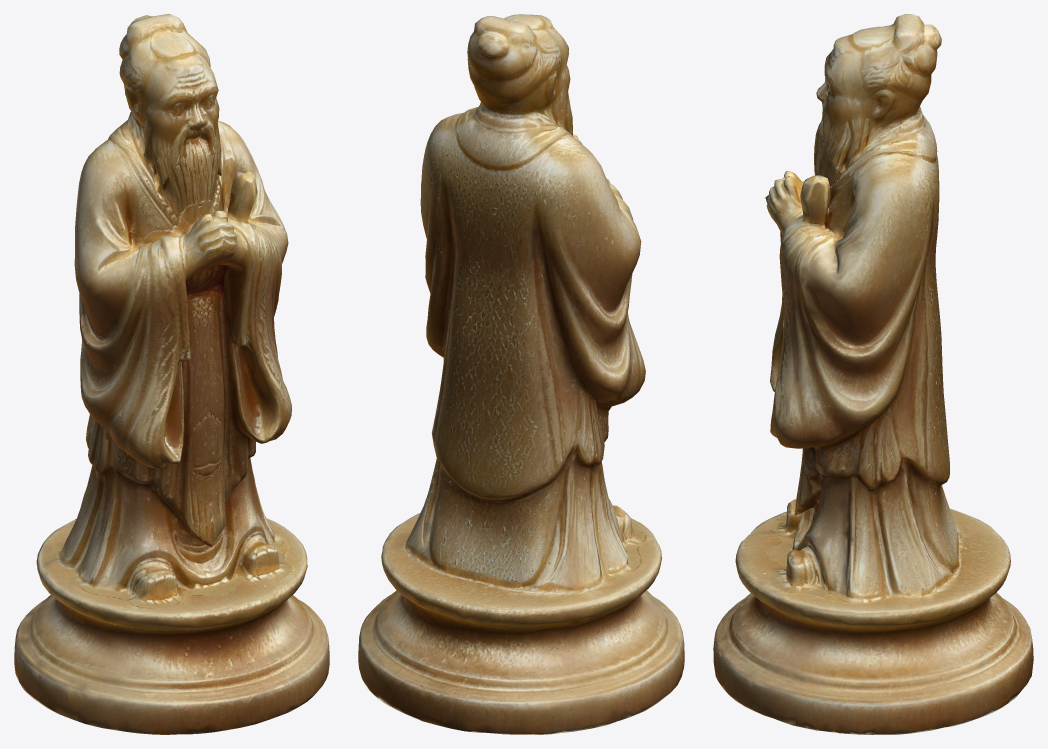
Rendered from draw_statue4_gold.glb.
3 views of the same model, side by side, from view 1: azimuth 30°, elevation 25°; view 2: azimuth 150°, elevation 25°; view 3: azimuth 270°, elevation 25° (orthographic). The views are drawn at different scales.
Parts seen in each view (by area): view 1: texture_mapping; view 2: texture_mapping; view 3: texture_mapping.
Part boxes in pixels (x1,y1,x2,y2): texture_mapping: (14, 14, 329, 734); texture_mapping: (358, 14, 684, 734); texture_mapping: (713, 14, 1033, 734).
Bounding box in the file's own units: 0.4491 × 1 × 0.4497.
1 material, 1 textured.
